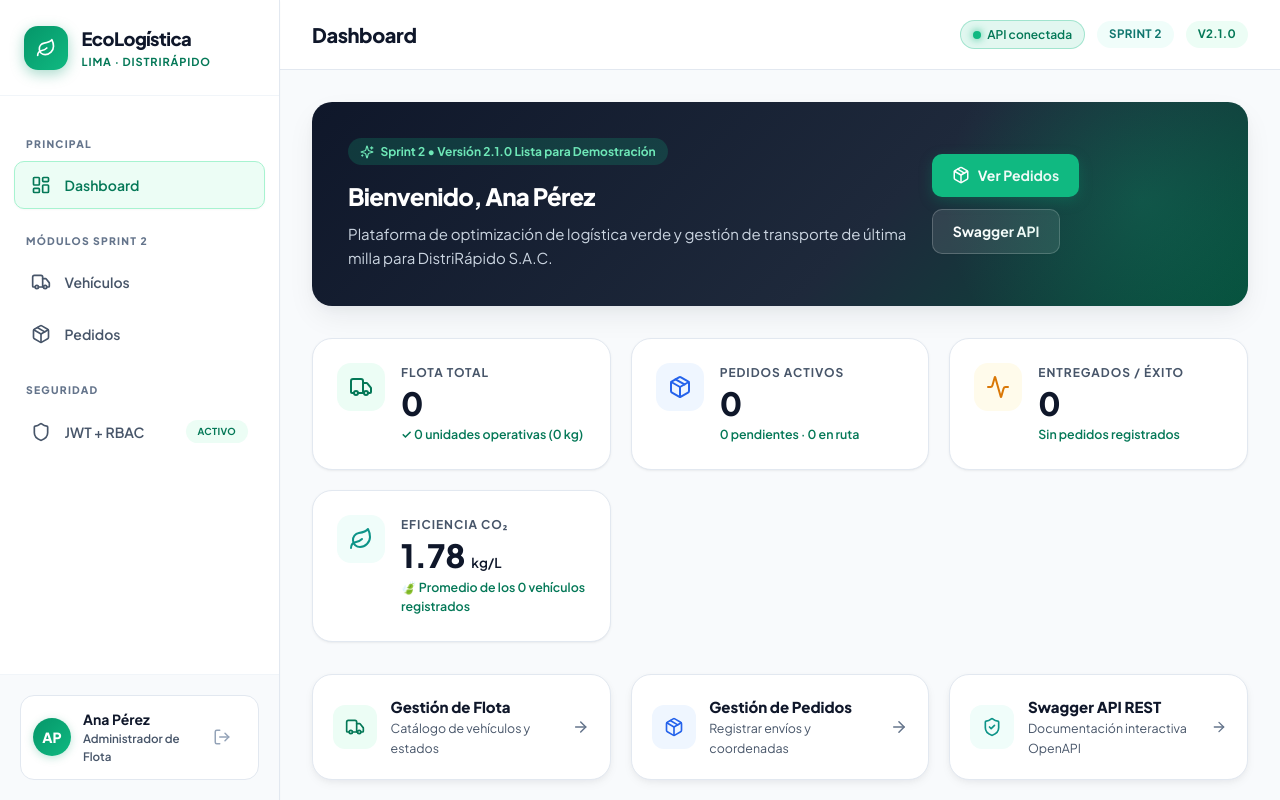
Test: App › cierra la sesión y vuelve al login
Click the button titled "Cerrar sesión" at (222, 737), box top-left (199, 721), bottom-right (246, 754)
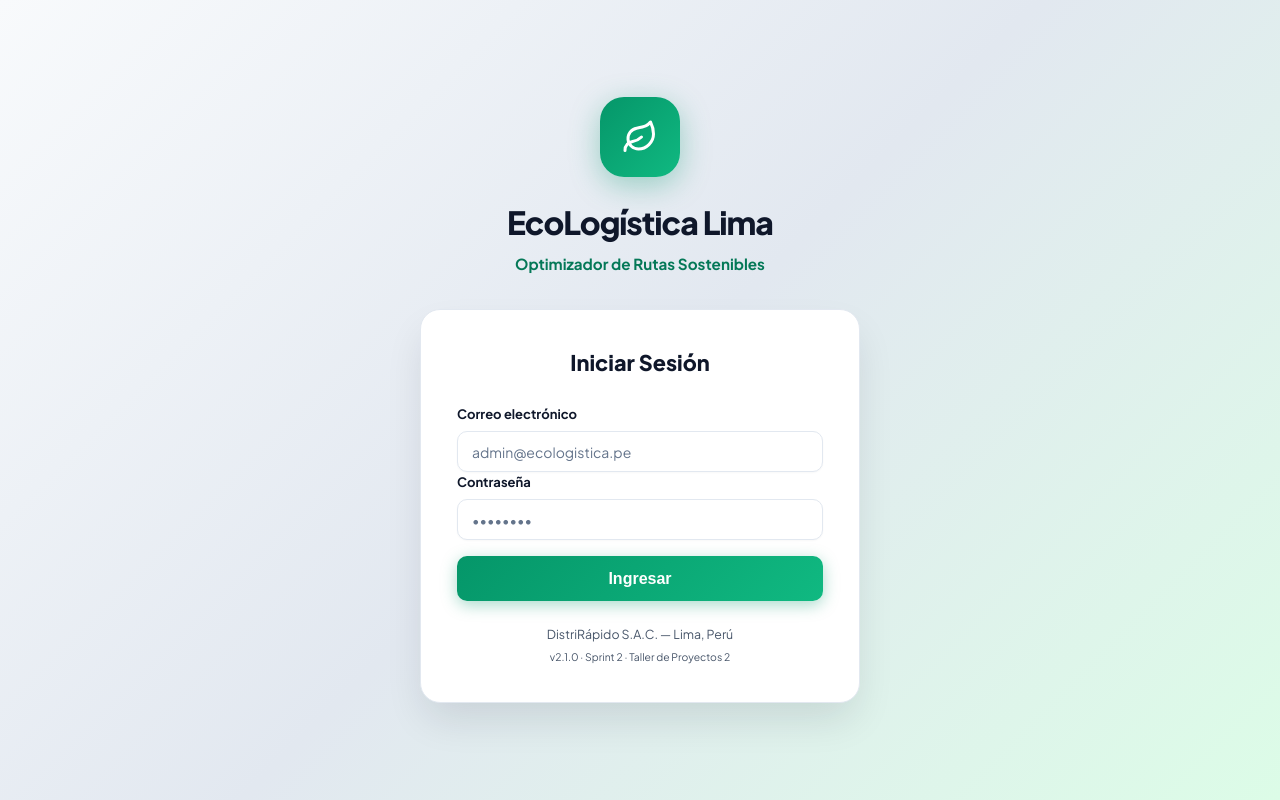
Now the heading "Iniciar Sesión" is shown, box top-left (570, 349), bottom-right (710, 376)
